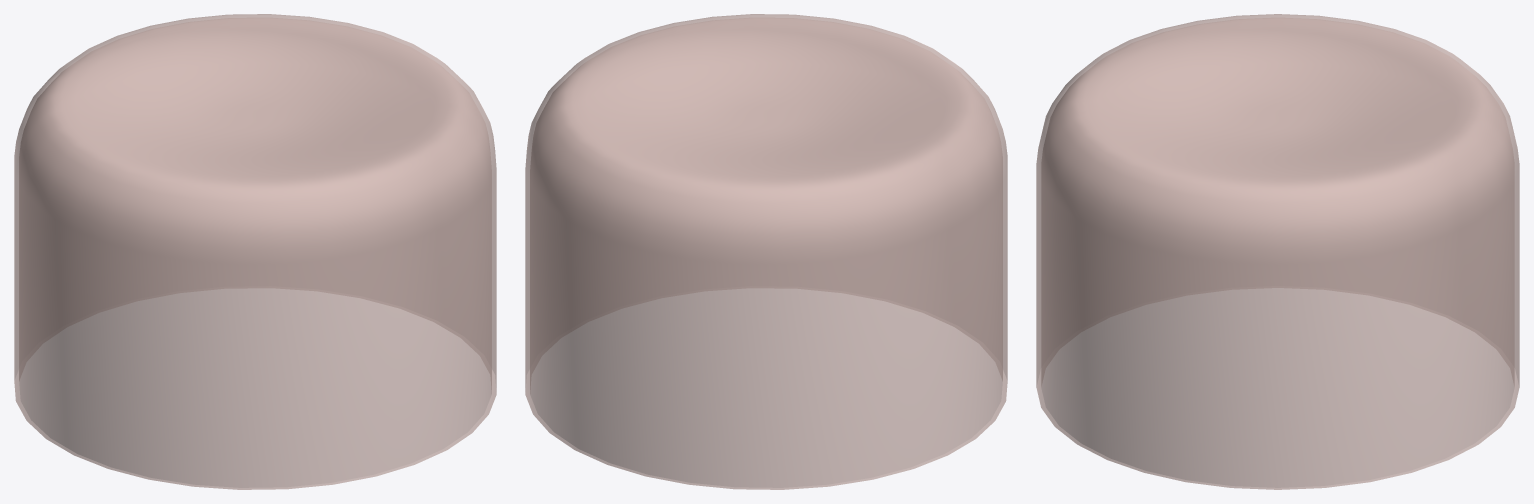
The model's file is glass1-lid.fbx.
3 renders of one model, left to right at view 1: azimuth 30°, elevation 25°; view 2: azimuth 150°, elevation 25°; view 3: azimuth 270°, elevation 25°, orthographic.
Parts seen in each view (by area): view 1: Cylinder.001; view 2: Cylinder.001; view 3: Cylinder.001.
Part boxes in pixels (x1,y1,x2,y2): Cylinder.001: (14,14,496,489); Cylinder.001: (525,14,1007,489); Cylinder.001: (1036,14,1519,489).
Size of the model in its own units: 133 by 87.36 by 133.
